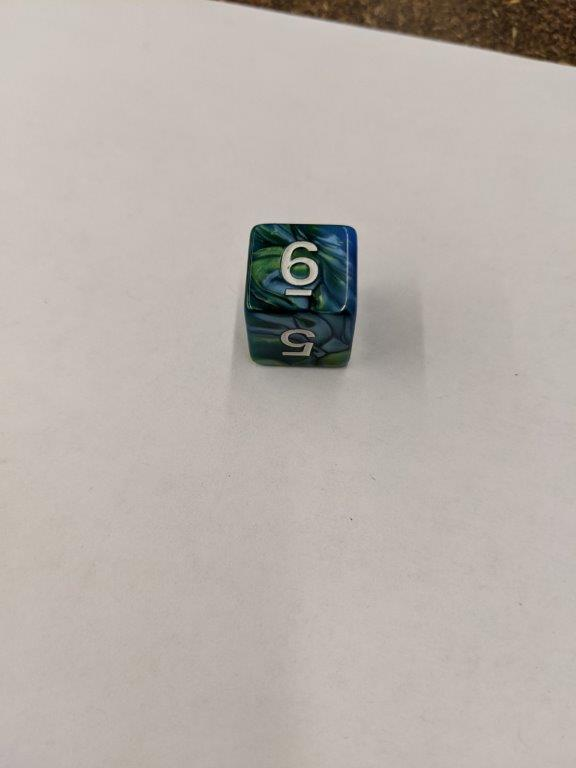d6-6: (243, 220, 360, 372)
